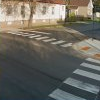crosswalk: (48, 57, 100, 100), (8, 30, 72, 48)
